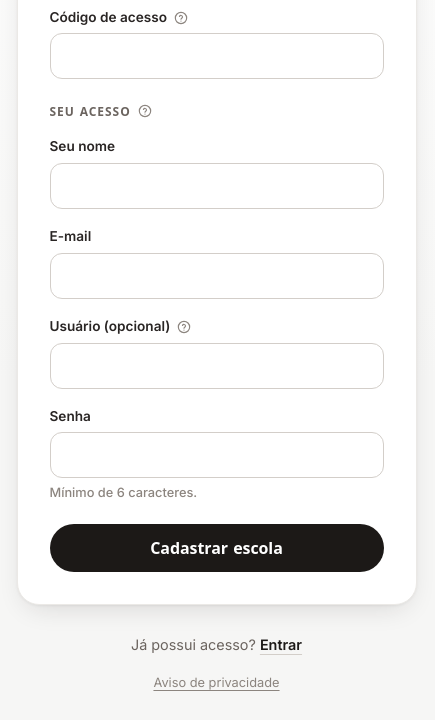
Test: CadastroEscolaPage › mostra os erros junto aos campos; código em uso vai para o campo do código
(page scrolled)
Step 1. Click the button "Cadastrar escola" → click(216, 548), box [50,524,384,572]
(page scrolled)
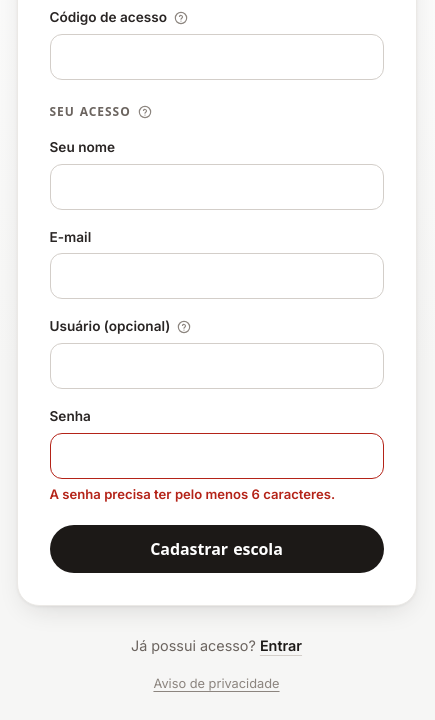
Check: the text "Mínimo de 6 caracteres." is gone
Step 2. Click the button "Cadastrar escola" → click(216, 549), box [50,525,384,573]
(page scrolled)
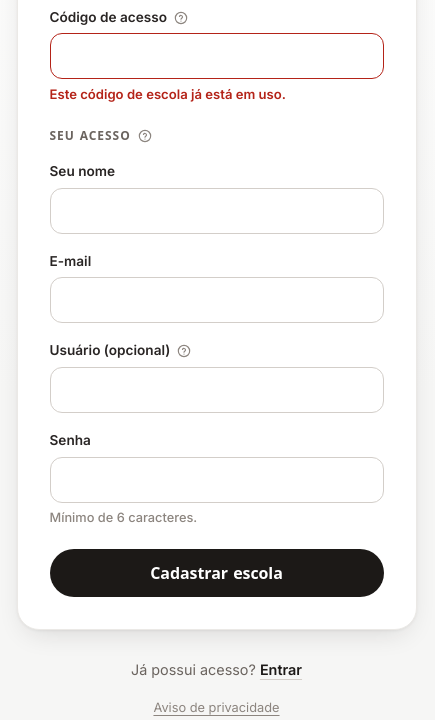
Check: the text "Este código de escola já está em uso." is shown, box [50,86,286,102]
